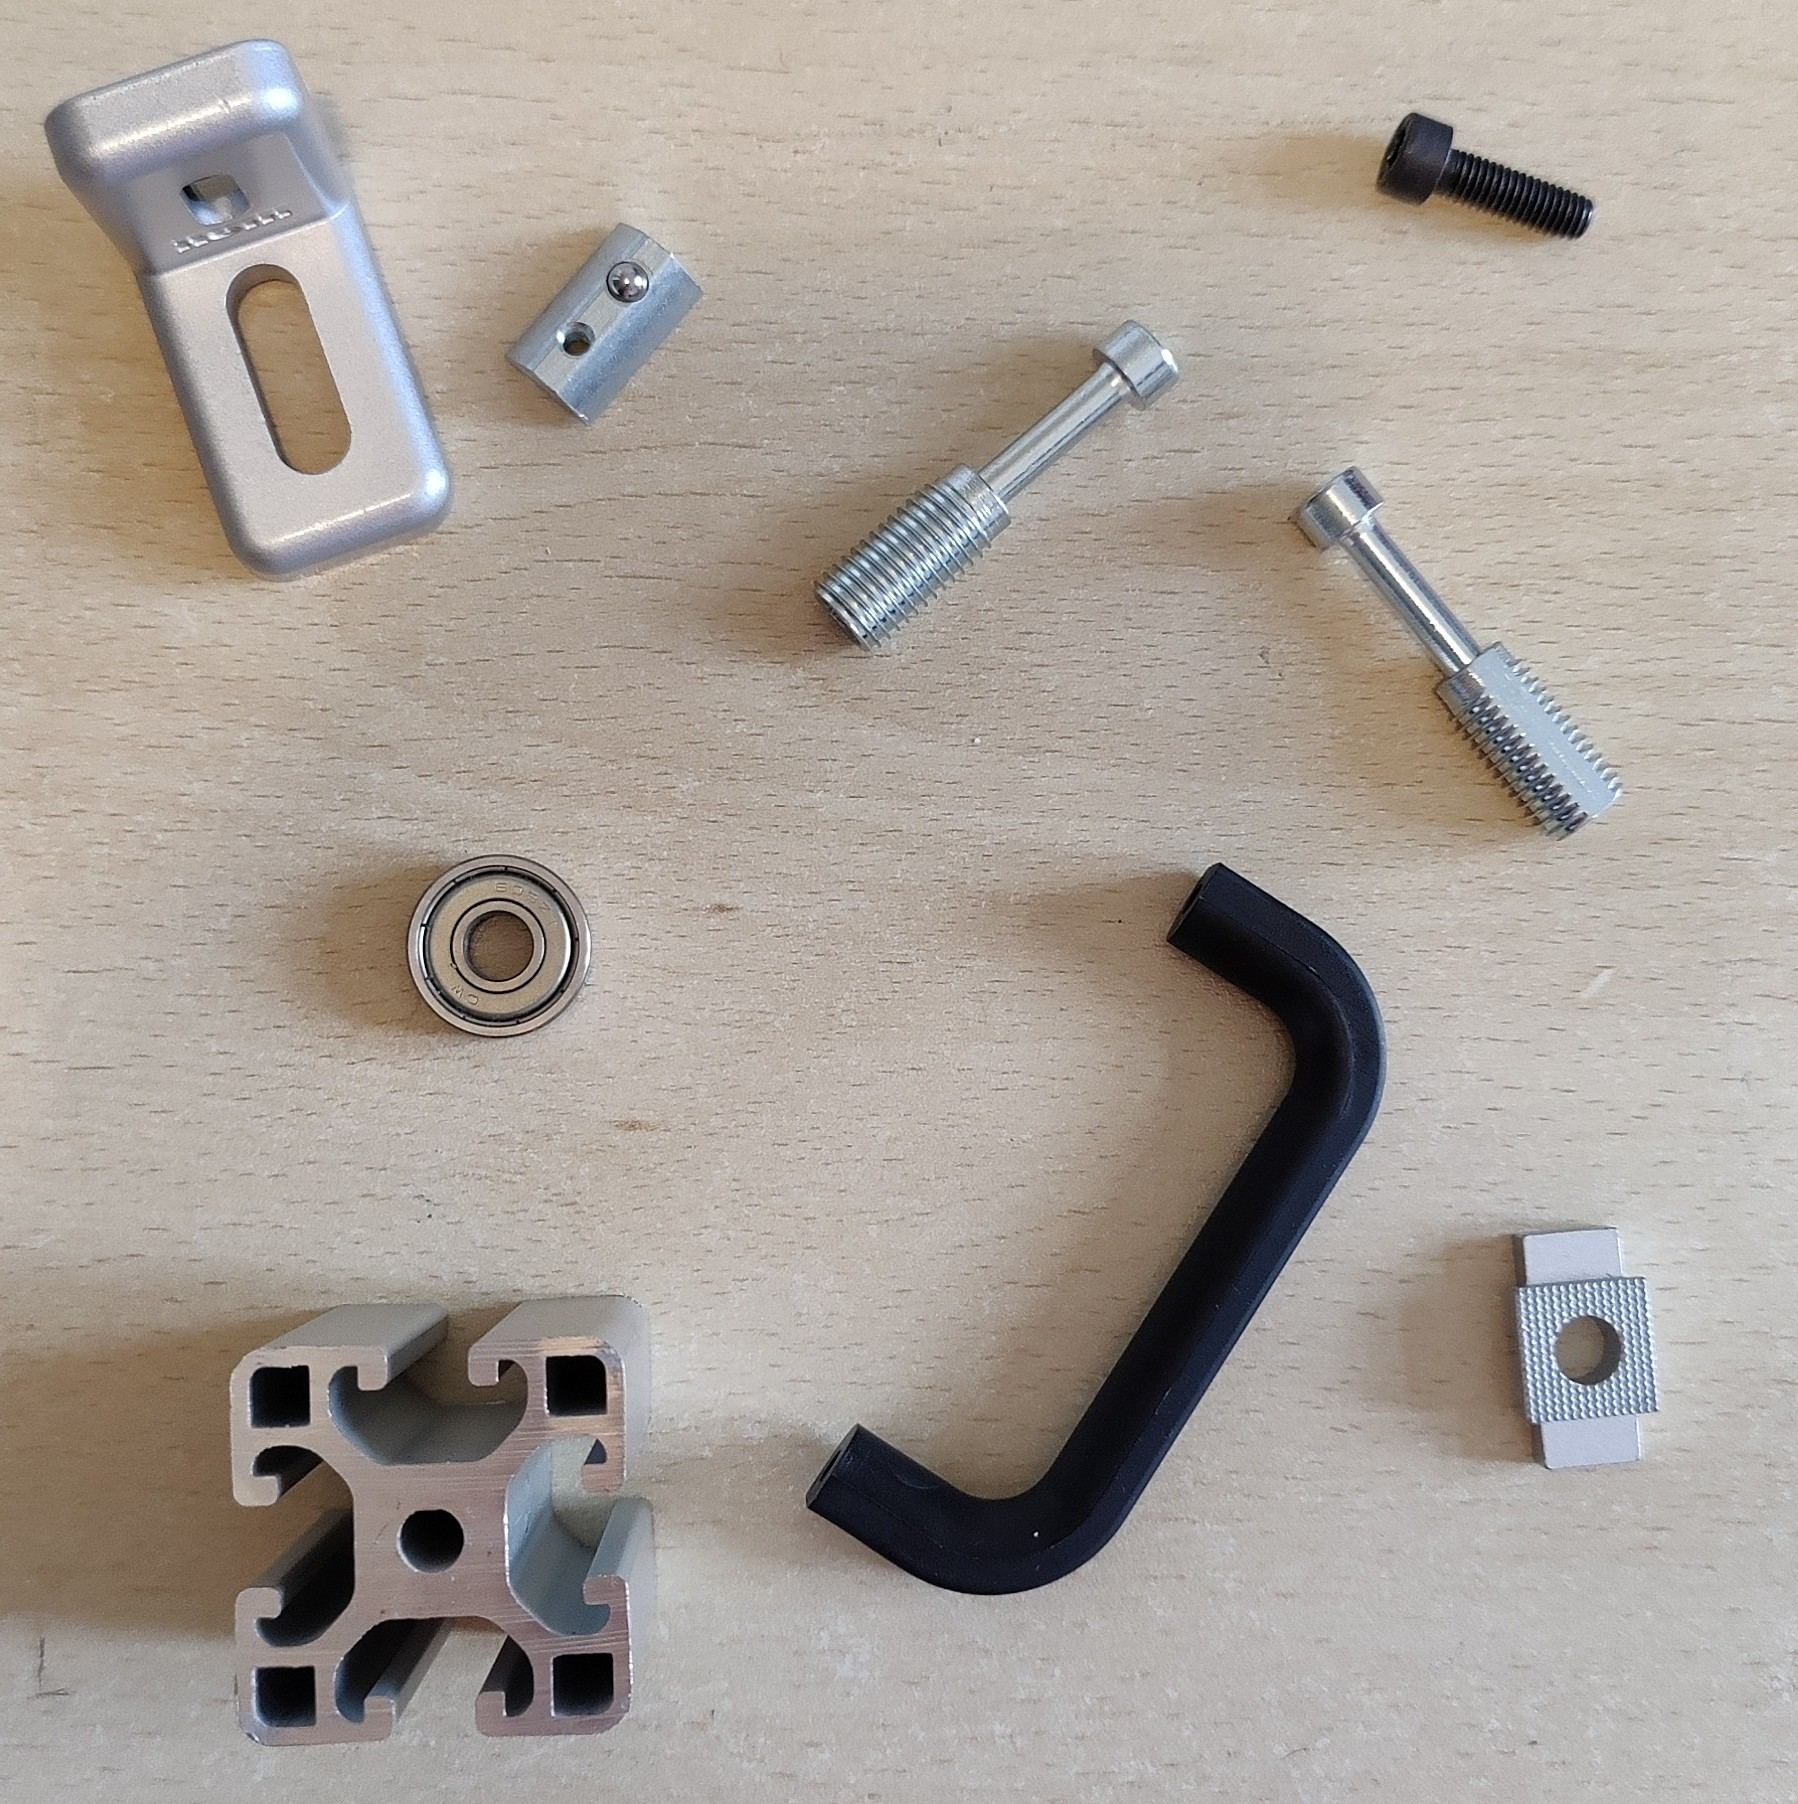Aluminium Extension: (224, 1292, 655, 1751)
Ball Bearing: (402, 849, 594, 1042)
Multiwinkel: (44, 36, 458, 584)
Pull Handle: (804, 859, 1391, 1598)
Shoulder Socket Head Cap Screw: (1288, 463, 1628, 843), (812, 314, 1185, 657)
Socket Head Cap Screw: (1373, 110, 1595, 240)
T Nut Square: (1503, 1221, 1661, 1472)
T Spring Nut: (502, 221, 706, 430)
